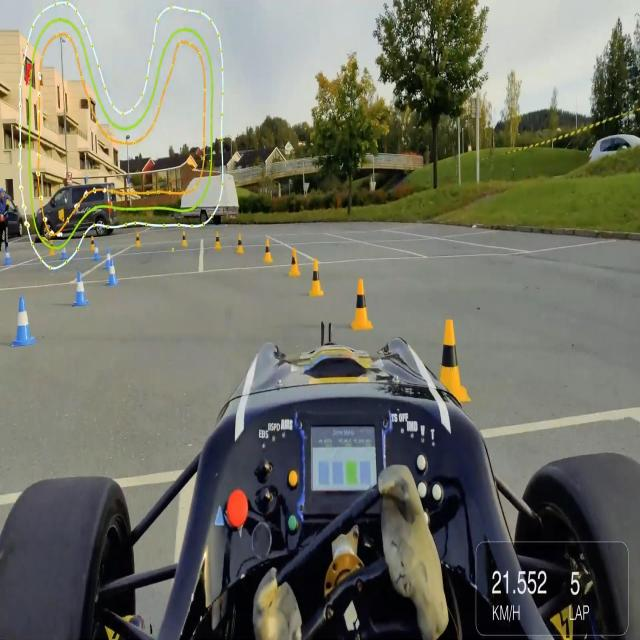blue_cone: (10, 292, 38, 348), (72, 268, 91, 310), (106, 257, 120, 286), (59, 241, 68, 262), (104, 247, 112, 270), (4, 246, 12, 268), (93, 242, 100, 260)
yellow_cone: (434, 314, 472, 406), (348, 276, 374, 334), (307, 256, 324, 299), (288, 247, 300, 279), (262, 237, 274, 264), (235, 233, 245, 255), (213, 230, 222, 252), (180, 230, 189, 248), (134, 231, 142, 248), (49, 240, 55, 256), (90, 235, 95, 251)
